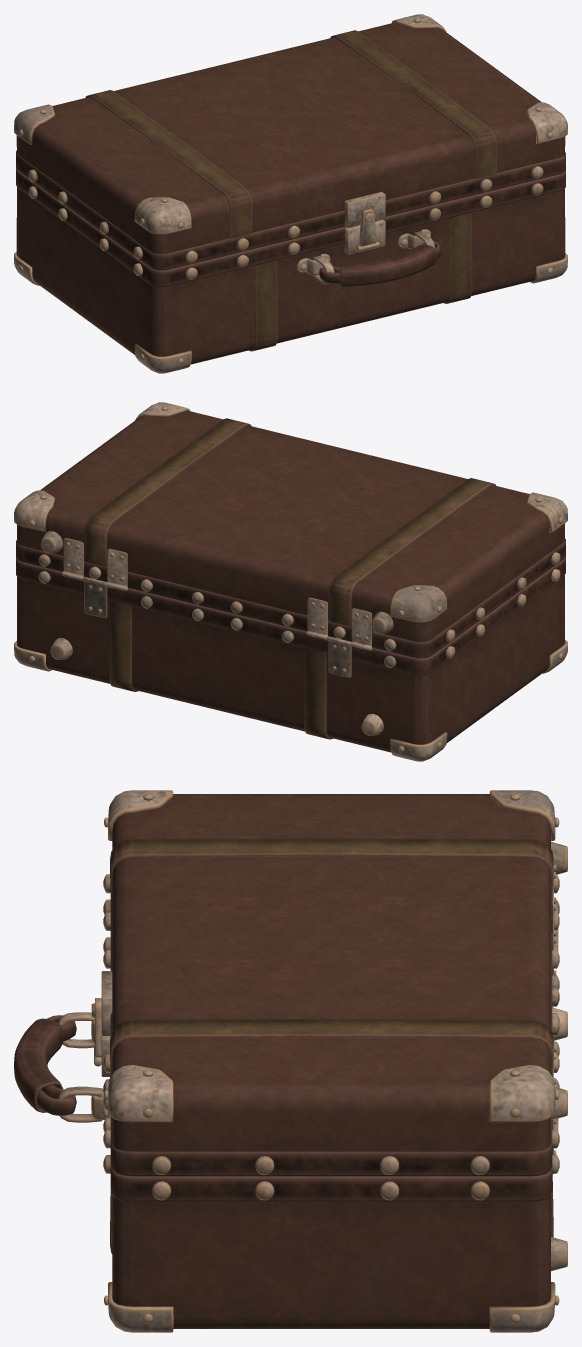
The model's file is suitcase01.FBX.
3 renders of one model, top to bottom at view 1: azimuth 30°, elevation 25°; view 2: azimuth 150°, elevation 25°; view 3: azimuth 270°, elevation 25°, orthographic. The views are drawn at different scales.
Parts seen in each view (by area): view 1: suitcase_up, suitcase_down; view 2: suitcase_up, suitcase_down; view 3: suitcase_up, suitcase_down.
Part boxes in pixels (x1=…): suitcase_up: x1=14, y1=14, x2=567, y2=270; suitcase_down: x1=14, y1=169, x2=567, y2=373; suitcase_up: x1=14, y1=402, x2=567, y2=658; suitcase_down: x1=14, y1=557, x2=567, y2=761; suitcase_up: x1=101, y1=790, x2=567, y2=1176; suitcase_down: x1=14, y1=899, x2=567, y2=1332.
Bounding box in the file's own units: 105 × 40.1 × 78.29.
Materials: 1 (1 with a texture image).
